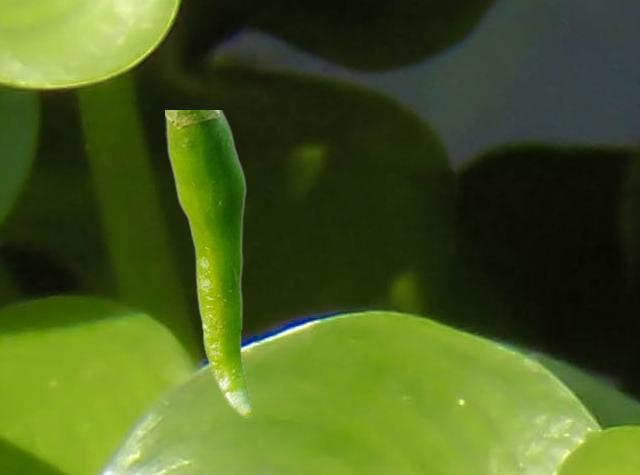green_chili: (165, 110, 250, 416)
